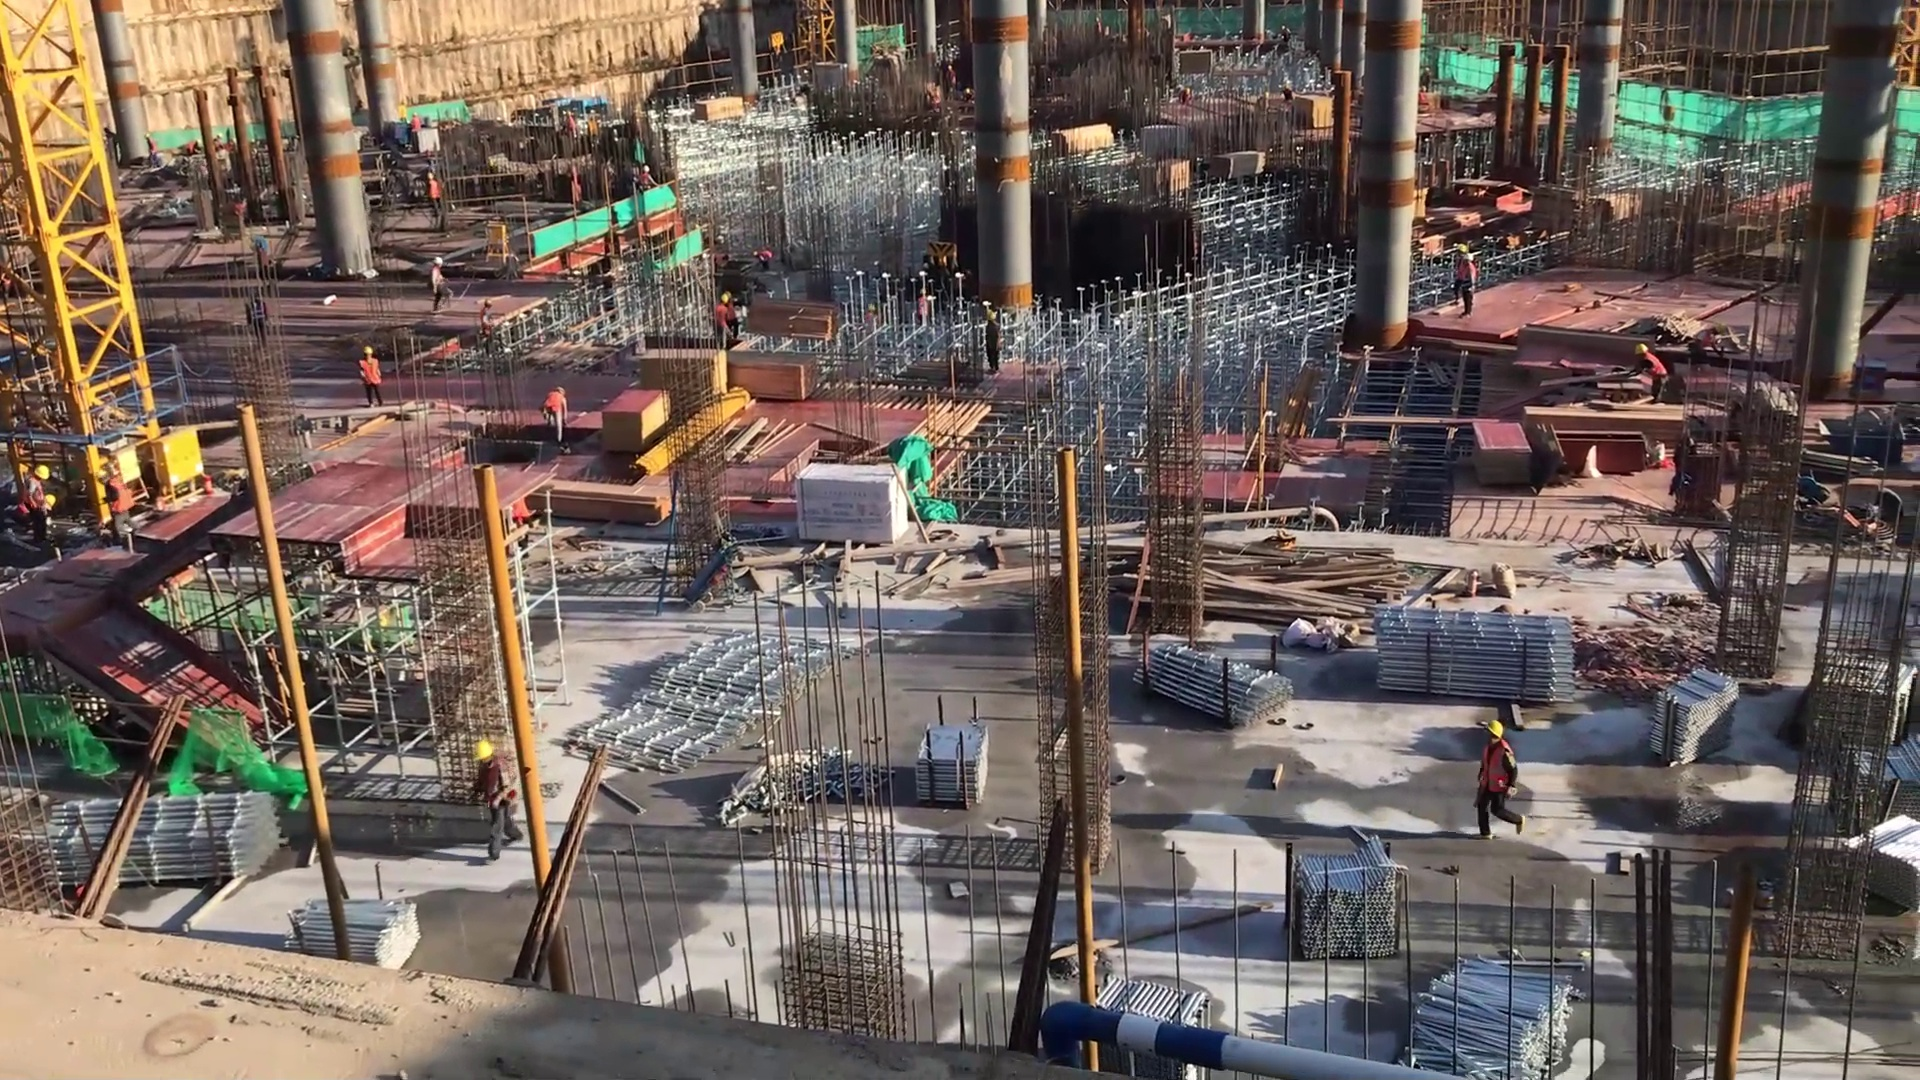board: (641, 347, 731, 408), (600, 387, 672, 455), (1473, 417, 1535, 493)
ebox: (148, 416, 208, 502), (480, 216, 508, 255)
helmet: (471, 738, 498, 770), (31, 460, 59, 488), (1483, 718, 1511, 741), (96, 467, 116, 491), (1633, 341, 1653, 359), (363, 347, 376, 365), (431, 255, 446, 270), (717, 293, 730, 307), (987, 309, 998, 325), (426, 171, 439, 184), (1464, 250, 1476, 265), (750, 245, 762, 259), (1714, 320, 1724, 335)
hook: (1820, 421, 1912, 460), (762, 26, 797, 62)
person: (1467, 713, 1528, 842), (464, 730, 515, 863), (23, 460, 60, 549), (94, 468, 137, 545), (1626, 336, 1671, 401), (1686, 318, 1729, 374), (354, 342, 385, 417), (1293, 90, 1337, 134), (543, 380, 571, 449), (245, 292, 272, 349), (427, 253, 450, 318), (1460, 252, 1479, 318), (985, 309, 1004, 378), (712, 291, 730, 354), (422, 172, 443, 222), (635, 165, 660, 196), (1456, 245, 1467, 303), (751, 245, 773, 273), (146, 130, 157, 177), (945, 63, 959, 97), (407, 109, 421, 142)
scaffold: (40, 795, 293, 898), (1370, 605, 1597, 707), (1406, 964, 1579, 1078), (1123, 645, 1305, 738), (1289, 845, 1415, 966), (1651, 659, 1743, 781), (293, 903, 422, 970)
vest: (1476, 733, 1517, 796), (108, 481, 135, 517), (24, 479, 46, 514), (545, 392, 570, 419), (1641, 353, 1668, 379), (362, 358, 381, 390)
wood: (1202, 541, 1399, 628), (1520, 401, 1694, 455), (536, 482, 673, 523), (722, 352, 819, 401), (741, 299, 834, 341), (1051, 120, 1115, 165), (1206, 146, 1272, 187), (694, 87, 747, 136)
